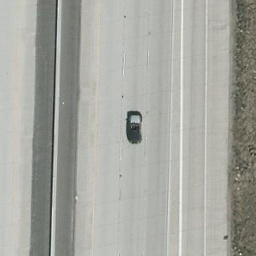car: (127, 112, 145, 145)
